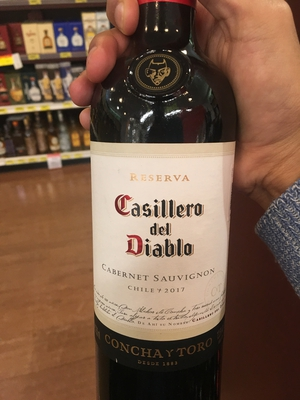casillero del diablo cabernet sauvignon: (77, 7, 248, 400)
